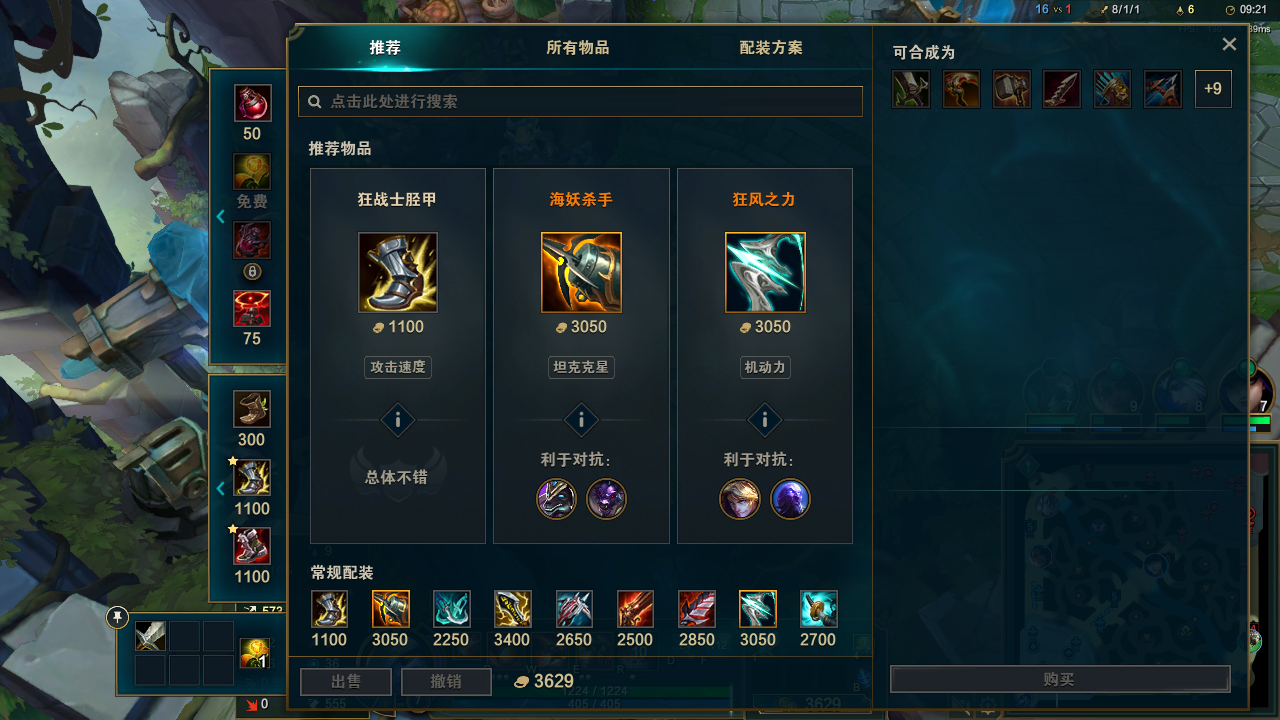TJJM: (334, 30, 443, 72)
